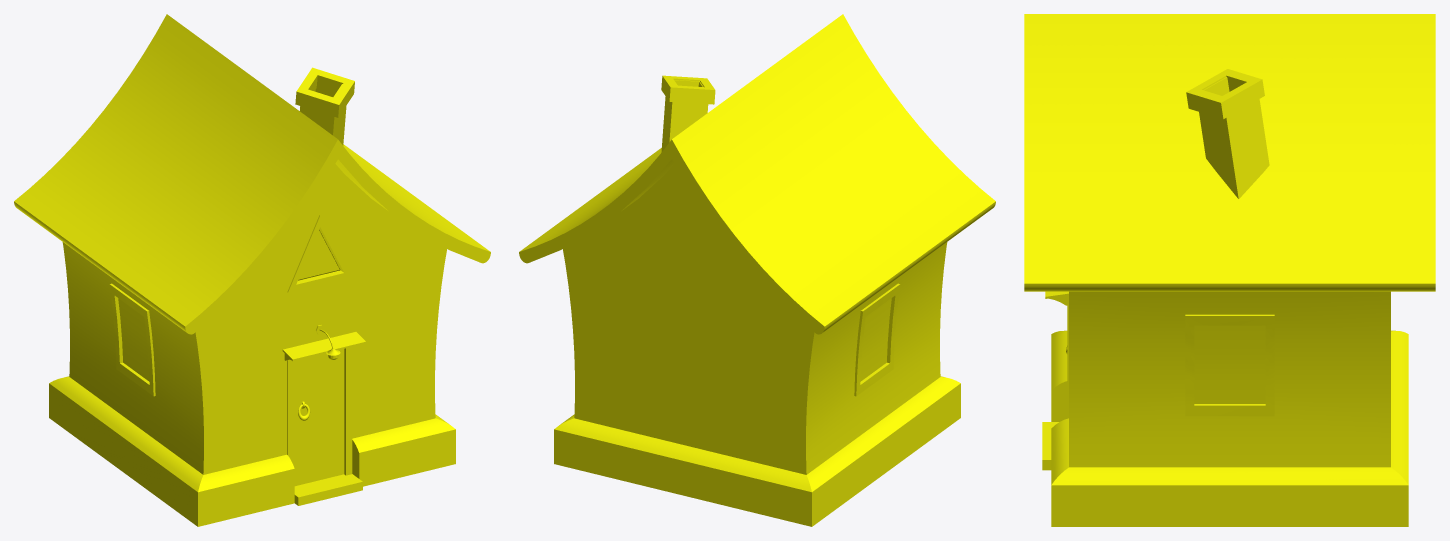
File: Cartoon_house_low_poly_OBJ.obj
3 views of the same model, side by side, from view 1: azimuth 30°, elevation 25°; view 2: azimuth 150°, elevation 25°; view 3: azimuth 270°, elevation 25° (orthographic). The views are drawn at different scales.
Visible parts, largest first — view 1: Furniture_Systems__Furniture_Systems_1___Furniture_Systems_1_, Walls__Basic_Wall___norma_duvar____, Walls__Basic_Wall___Deneme____, Furniture_Systems__Furniture_Systems_2___Furniture_Systems_2_, Furniture_Systems__yancam___yancam_, Furniture_Systems__baca___baca_, Furniture_Systems__onpencere___onpencere_, Furniture_Systems__giris1___giris1_, Furniture_Systems__Furniture_Systems_3___Furniture_Systems_3_; view 2: Walls__Basic_Wall___norma_duvar____, Furniture_Systems__Furniture_Systems_1___Furniture_Systems_1_, Walls__Basic_Wall___Deneme____, Furniture_Systems__yancam___yancam_, Furniture_Systems__baca___baca_; view 3: Furniture_Systems__Furniture_Systems_1___Furniture_Systems_1_, Walls__Basic_Wall___norma_duvar____, Walls__Basic_Wall___Deneme____, Furniture_Systems__yancam___yancam_, Furniture_Systems__baca___baca_, Furniture_Systems__giris1___giris1_.
Boxes of the visible parts, <box> form: Furniture_Systems__Furniture_Systems_1___Furniture_Systems_1_: <box>14,14,490,334</box>; Walls__Basic_Wall___norma_duvar____: <box>62,164,446,474</box>; Walls__Basic_Wall___Deneme____: <box>49,376,455,526</box>; Furniture_Systems__Furniture_Systems_2___Furniture_Systems_2_: <box>287,347,352,486</box>; Furniture_Systems__yancam___yancam_: <box>109,283,155,396</box>; Furniture_Systems__baca___baca_: <box>295,67,354,145</box>; Furniture_Systems__onpencere___onpencere_: <box>287,215,352,292</box>; Furniture_Systems__giris1___giris1_: <box>294,474,362,505</box>; Furniture_Systems__Furniture_Systems_3___Furniture_Systems_3_: <box>282,332,365,361</box>; Walls__Basic_Wall___norma_duvar____: <box>563,164,947,474</box>; Furniture_Systems__Furniture_Systems_1___Furniture_Systems_1_: <box>519,14,995,334</box>; Walls__Basic_Wall___Deneme____: <box>554,376,960,526</box>; Furniture_Systems__yancam___yancam_: <box>854,283,900,396</box>; Furniture_Systems__baca___baca_: <box>661,75,715,152</box>; Furniture_Systems__Furniture_Systems_1___Furniture_Systems_1_: <box>1024,14,1435,291</box>; Walls__Basic_Wall___norma_duvar____: <box>1069,291,1390,467</box>; Walls__Basic_Wall___Deneme____: <box>1051,330,1408,526</box>; Furniture_Systems__yancam___yancam_: <box>1185,314,1274,416</box>; Furniture_Systems__baca___baca_: <box>1186,69,1269,198</box>; Furniture_Systems__giris1___giris1_: <box>1042,422,1058,470</box>.
Size of the model in its own units: 474 by 540 by 460.
